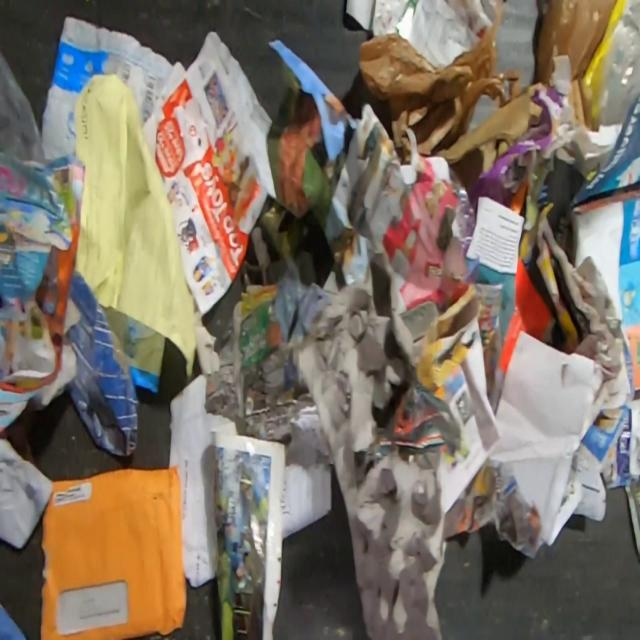cardboard: (292, 236, 449, 640), (39, 462, 188, 640), (64, 269, 140, 460), (431, 67, 544, 191)
soft_plastic: (356, 0, 510, 164), (41, 13, 174, 168), (579, 0, 640, 133), (534, 0, 617, 85), (264, 247, 334, 339), (0, 48, 46, 163), (445, 186, 475, 263)
